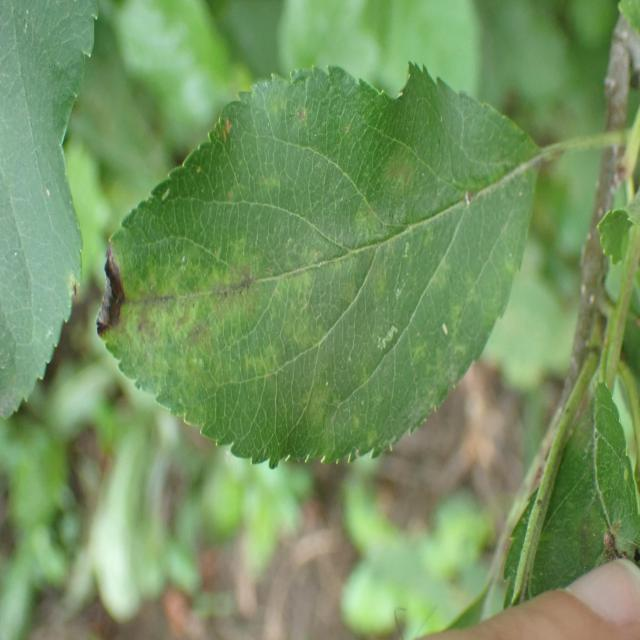scab: (90, 96, 495, 405)
